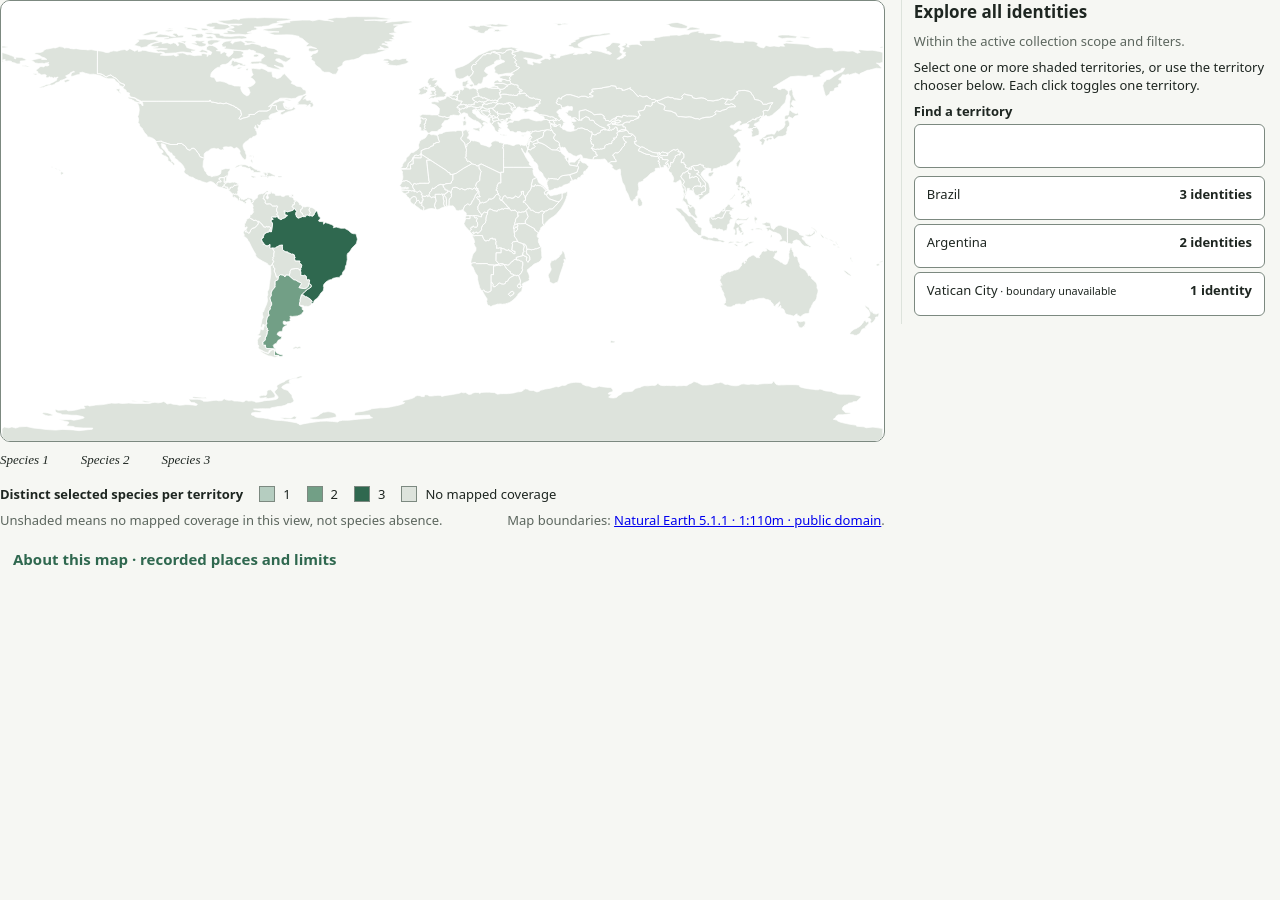
Test: unsupported territory remains selectable textually and limits stay accessible without false absence
This screenshot has width=1280, height=900.
Click the button "Vatican City · boundary unavailable 1 identity": [1089, 294] box [914,272,1265,316]
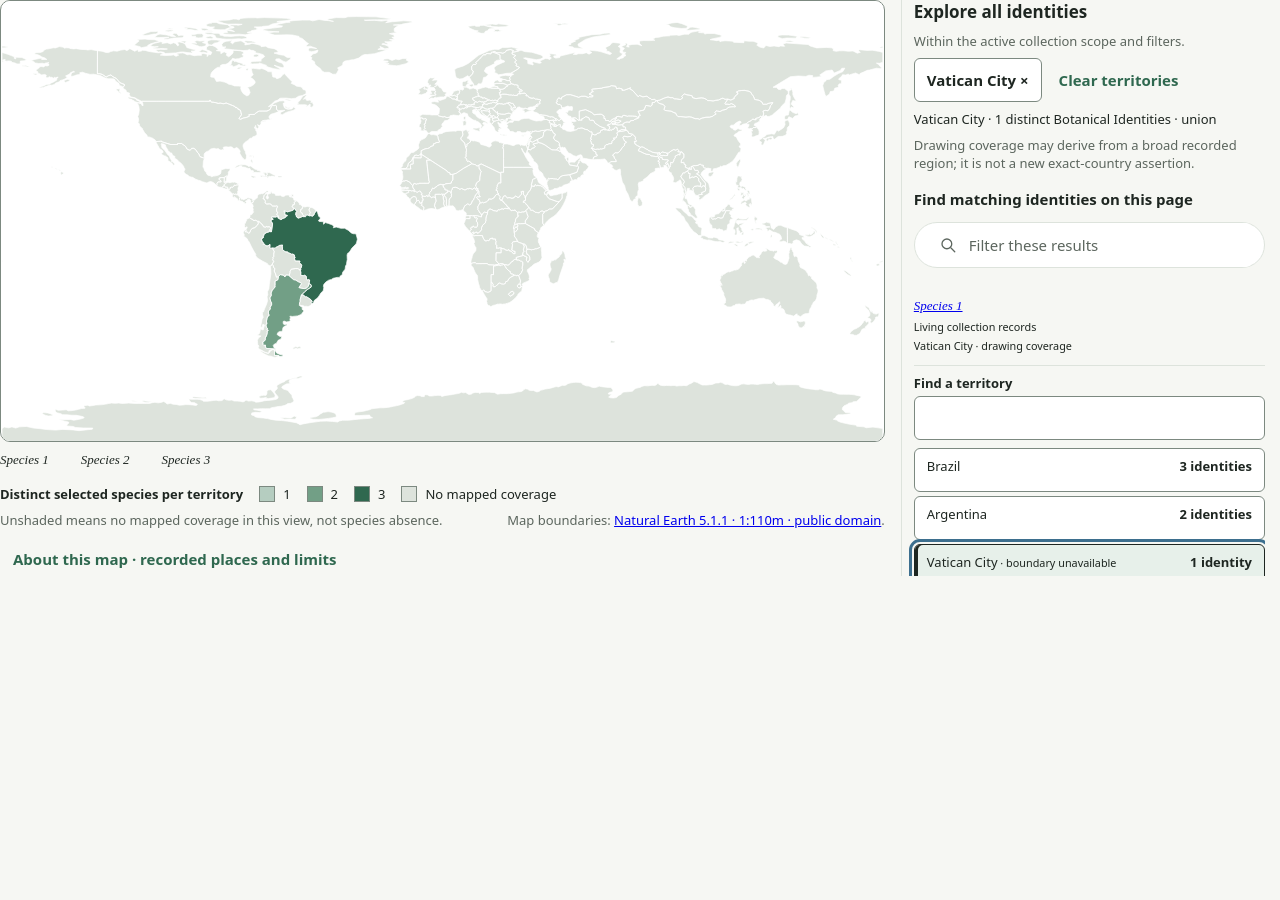
Check: the button with aria-label "Remove territory Vatican City" is shown, box [914,58,1042,102]
Click the button "About this map · recorded places and limits": [175, 559] box [0,537,350,581]
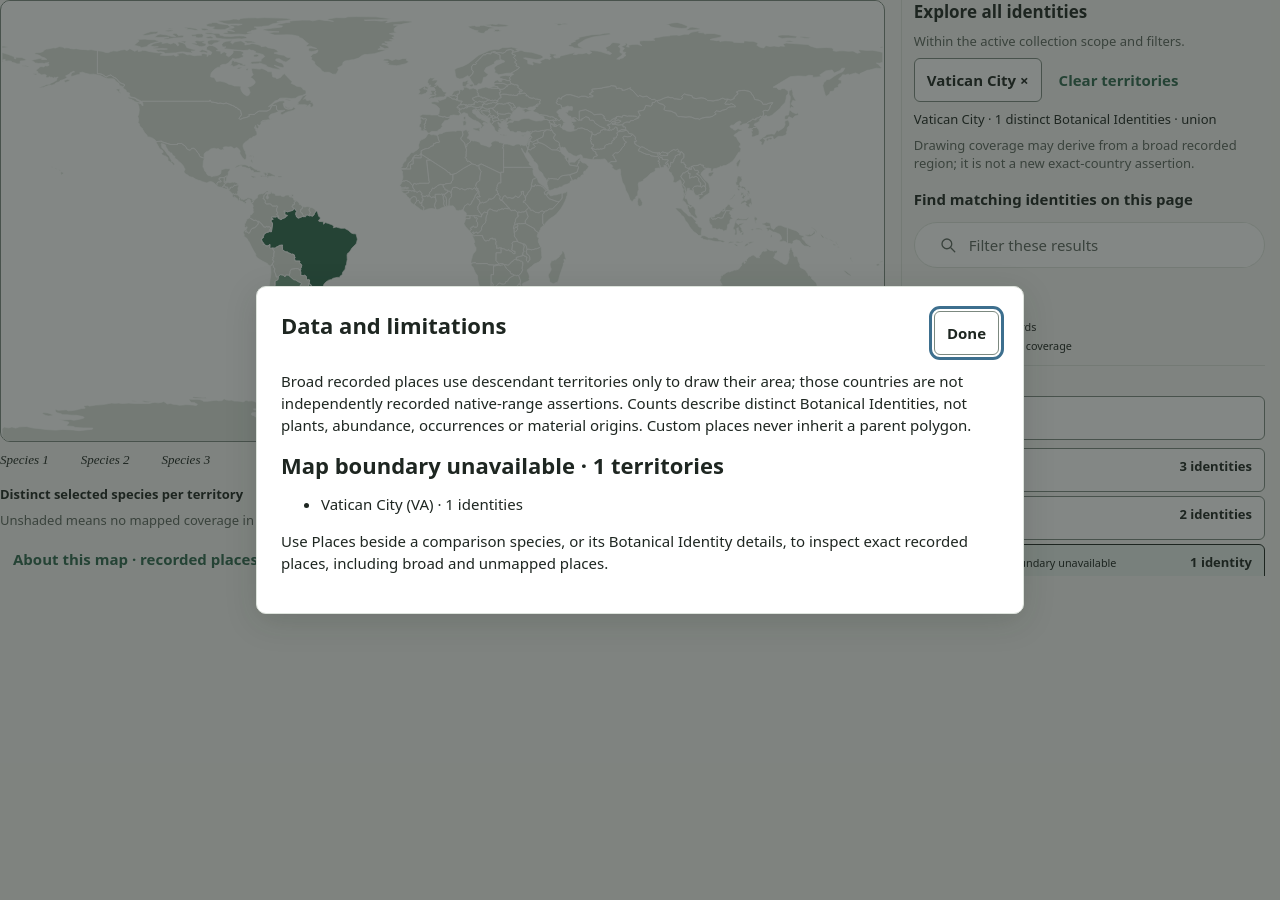
Check: the dialog shows "Map boundary unavailable · 1 territories", box [256,286,1024,614]
Check: the dialog shows "Custom places never inherit", box [281,370,971,434]
